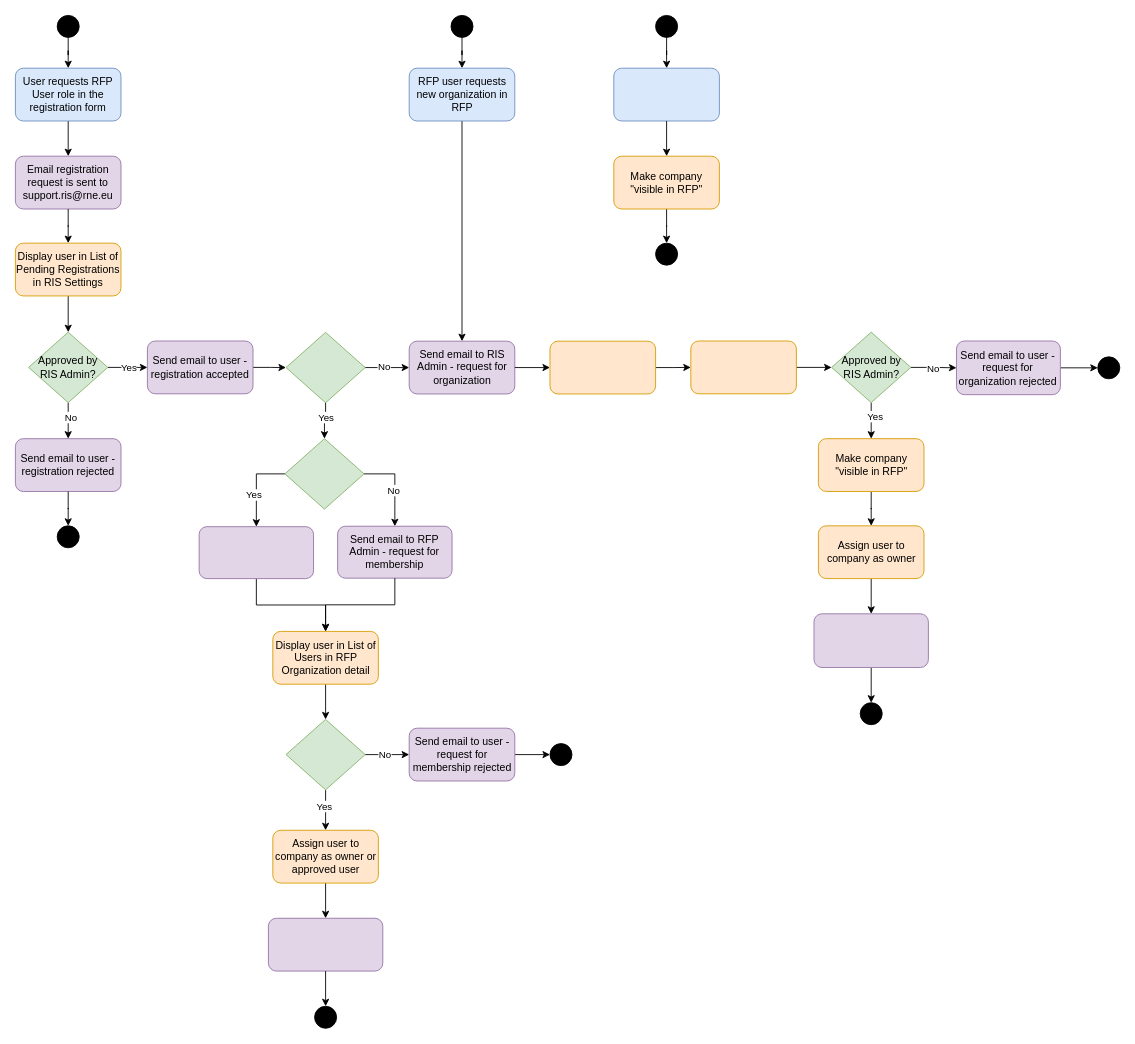
Some shapes in this 1135 by 1044 pixel diagram are drawn without their labels. The shapes that lost their labels are listed below. From the top down, each one's box as (x1, y1, x2, y2) in pixels, then its label:
(613, 67, 719, 121): RFP Admin makes company visible in RFP
(285, 331, 365, 403): Company already Visible in RFP?
(549, 340, 656, 394): Display company in List of Organizations in RFP with status Pending
(690, 340, 796, 394): Display company in List of Recent Organization Reg. Requests in RFP
(284, 438, 364, 509): Does company have an owner?
(198, 526, 314, 579): Send email to company owners - request for membership
(813, 613, 928, 667): Send email to user - request for organization accepted
(285, 719, 365, 790): Approved by owner or RFP Admin?
(268, 917, 383, 971): Send email to user - request for membership accepted
